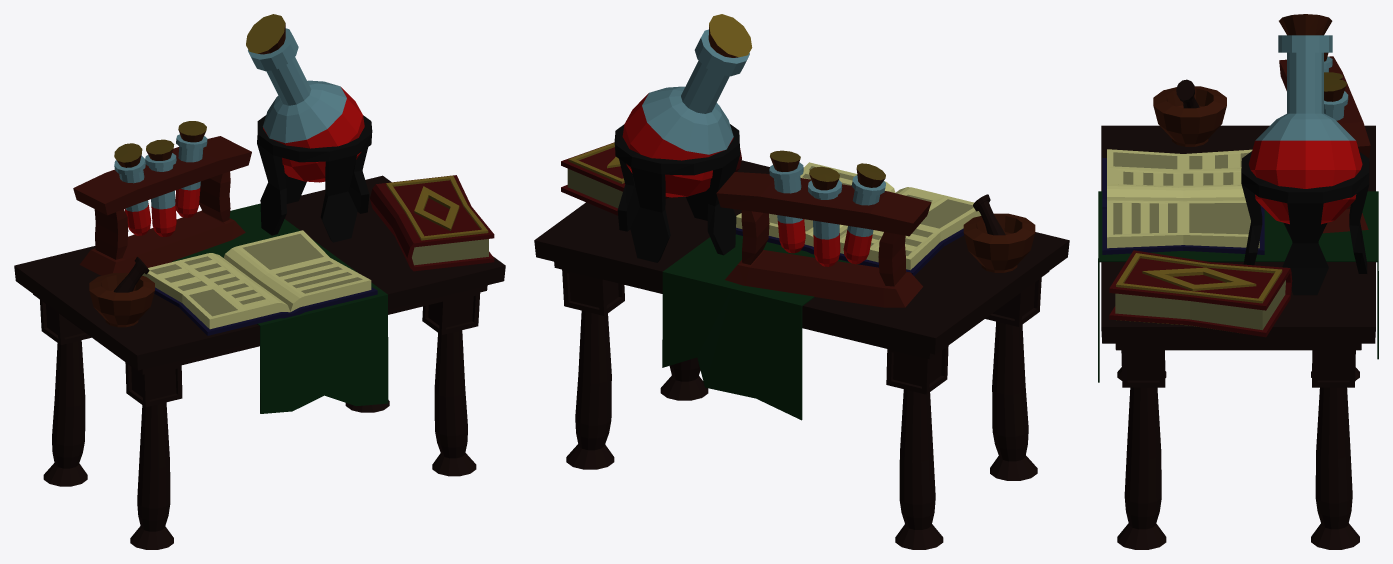
Rendered from prop_alchemy_table.FBX.
The picture shows the model from 3 angles, left to right: view 1: azimuth 30°, elevation 25°; view 2: azimuth 150°, elevation 25°; view 3: azimuth 270°, elevation 25°; orthographic projection. The views are drawn at different scales.
Visible parts, largest first — view 1: Object005; view 2: Object005; view 3: Object005.
Part boxes in pixels (x1,y1,x2,y2): Object005: (14,14,505,549); Object005: (534,14,1069,549); Object005: (1098,14,1378,549).
Size of the model in its own units: 92.14 by 93.49 by 50.51.
